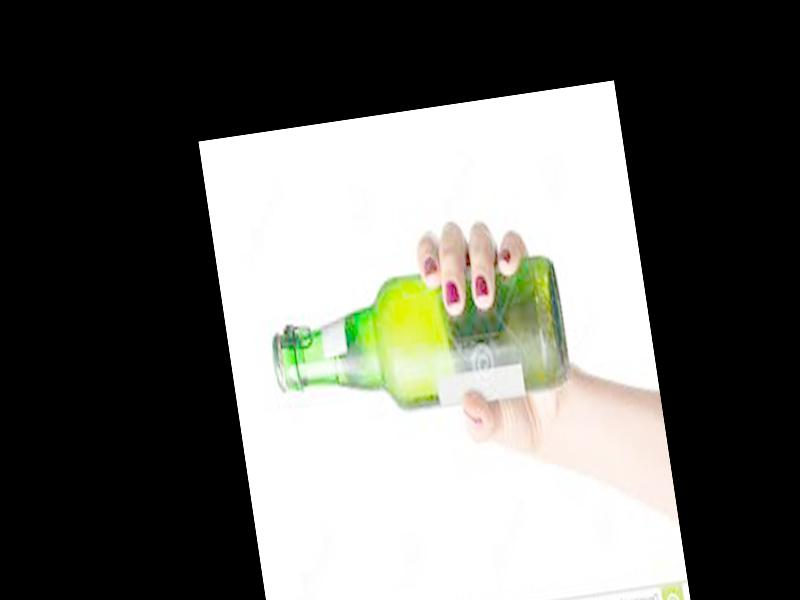Beer: (262, 253, 574, 434)
